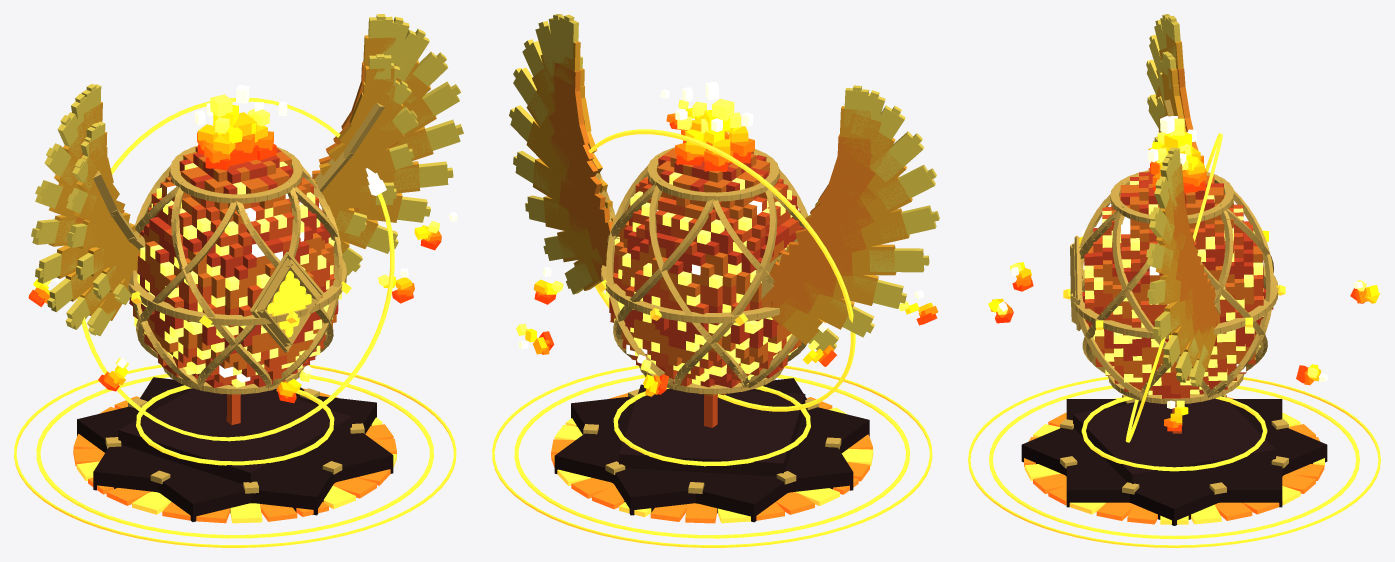
Rendered from egg_mitico_fenix.glb.
3 renders of one model, left to right at view 1: azimuth 30°, elevation 25°; view 2: azimuth 150°, elevation 25°; view 3: azimuth 270°, elevation 25°, orthographic. The views are drawn at different scales.
Visible parts, largest first — view 1: root_geo, shell_geo, wing_L_geo, wing_R_geo, egg_geo, floor_rings_geo, orbit1_geo, emblem_geo, flame0_geo, flame4_geo, flame1_geo, float0_geo (+3 smaller); view 2: root_geo, shell_geo, wing_R_geo, wing_L_geo, egg_geo, floor_rings_geo, orbit1_geo, flame3_geo, flame0_geo, flame2_geo, flame4_geo, float6_geo (+4 smaller); view 3: root_geo, shell_geo, egg_geo, wing_L_geo, floor_rings_geo, wing_R_geo, orbit1_geo, flame0_geo, emblem_geo, flame2_geo, float0_geo, float5_geo (+1 smaller).
Boxes of the visible parts, x1,y1,x2,y2 form: root_geo: [73, 377, 396, 523]; shell_geo: [129, 146, 341, 424]; wing_L_geo: [312, 14, 463, 275]; wing_R_geo: [31, 84, 145, 336]; egg_geo: [128, 145, 351, 394]; floor_rings_geo: [14, 364, 456, 547]; orbit1_geo: [77, 97, 394, 441]; emblem_geo: [250, 251, 323, 352]; flame0_geo: [210, 85, 259, 165]; flame4_geo: [195, 110, 242, 170]; flame1_geo: [251, 102, 287, 160]; float0_geo: [378, 268, 414, 303]; root_geo: [551, 378, 873, 523]; shell_geo: [605, 148, 803, 427]; wing_R_geo: [756, 85, 939, 350]; wing_L_geo: [509, 14, 619, 294]; egg_geo: [596, 147, 808, 394]; floor_rings_geo: [492, 365, 932, 547]; orbit1_geo: [588, 129, 855, 411]; flame3_geo: [701, 118, 733, 171]; flame0_geo: [692, 81, 734, 161]; flame2_geo: [675, 109, 706, 165]; flame4_geo: [724, 112, 754, 163]; float6_geo: [516, 323, 554, 354]; root_geo: [1021, 394, 1327, 525]; shell_geo: [1082, 168, 1273, 433]; egg_geo: [1063, 170, 1285, 404]; wing_L_geo: [1146, 147, 1220, 386]; floor_rings_geo: [968, 376, 1380, 547]; wing_R_geo: [1146, 14, 1198, 150]; orbit1_geo: [1125, 133, 1222, 442]; flame0_geo: [1151, 115, 1191, 174]; emblem_geo: [1070, 235, 1081, 330]; flame2_geo: [1180, 153, 1206, 193]; float0_geo: [1164, 400, 1188, 431]; float5_geo: [1350, 280, 1379, 303].
Size of the model in its own units: 9.91 by 8.89 by 8.79.
